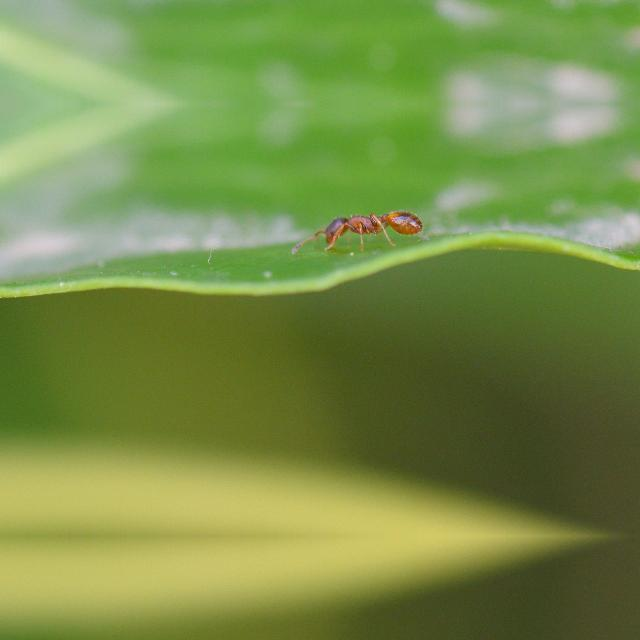Temnothorax: (293, 191, 439, 259), (293, 0, 439, 14)
